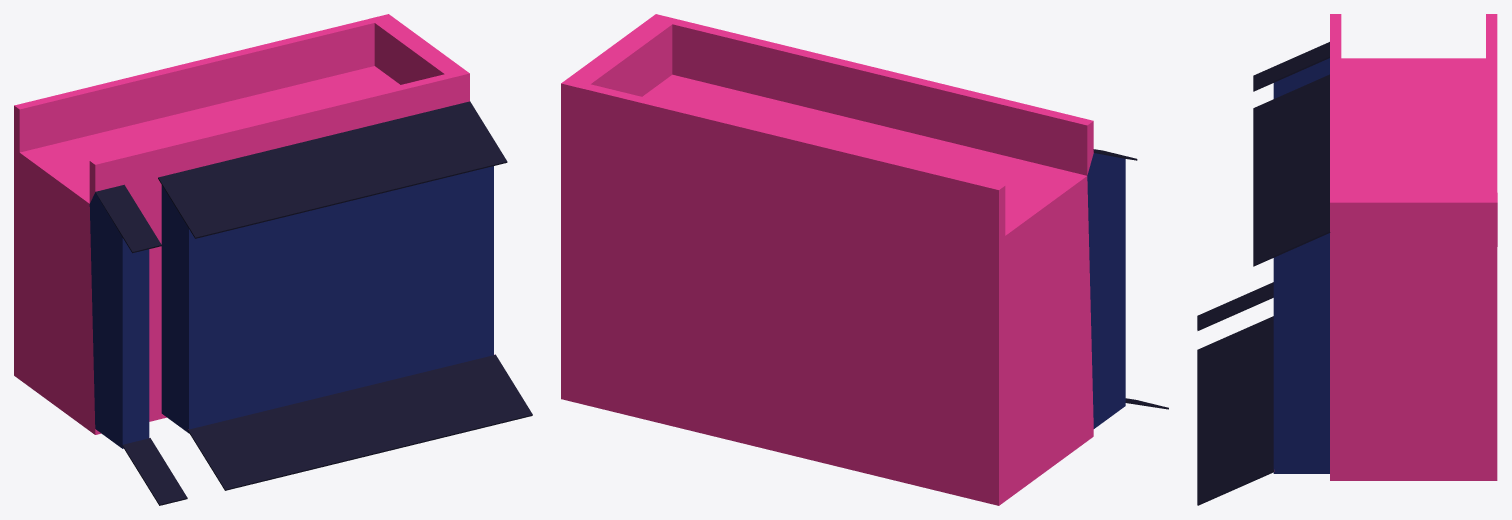
3 views of the same model, side by side, from view 1: azimuth 30°, elevation 25°; view 2: azimuth 150°, elevation 25°; view 3: azimuth 270°, elevation 25° (orthographic). The views are drawn at different scales.
Parts seen in each view (by area): view 1: Mesh_0.019; view 2: Mesh_0.019; view 3: Mesh_0.019.
Boxes of the visible parts, left/top/right/bottom form: Mesh_0.019: left=14, top=14, right=532, bottom=505; Mesh_0.019: left=561, top=14, right=1168, bottom=505; Mesh_0.019: left=1197, top=14, right=1497, bottom=505.
Bounding box in the file's own units: 4 × 3.01 × 2.69.
